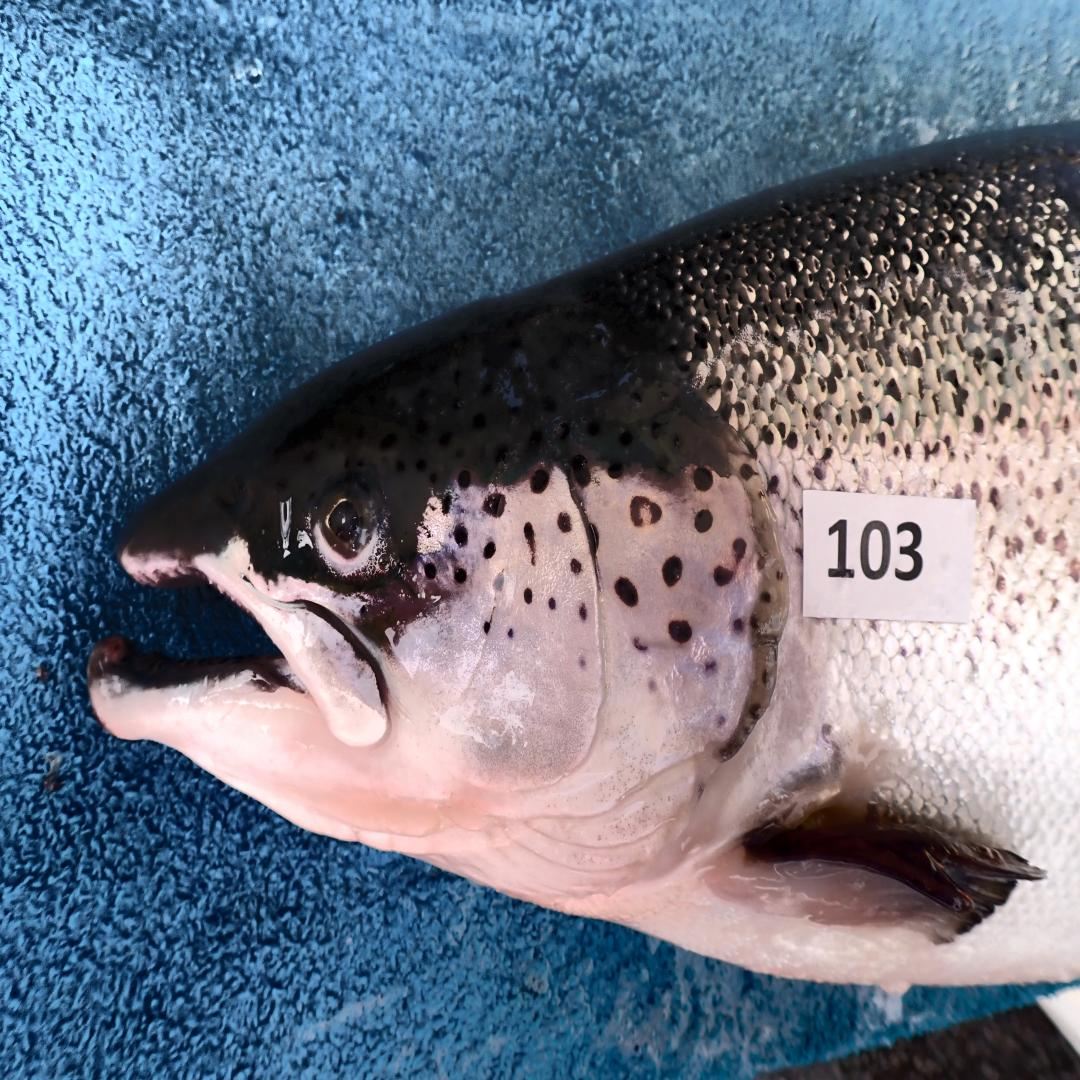spot: (631, 495, 662, 526), (614, 577, 637, 608), (571, 455, 591, 487), (483, 492, 506, 518), (662, 557, 683, 585), (669, 619, 692, 644), (692, 467, 713, 492), (524, 523, 536, 565), (713, 565, 734, 586), (694, 509, 713, 532), (713, 565, 734, 585), (732, 537, 747, 564), (532, 470, 548, 492), (454, 524, 468, 548), (557, 512, 572, 533), (483, 541, 496, 560), (732, 617, 745, 636), (458, 470, 470, 489), (424, 562, 437, 579), (441, 493, 451, 515), (608, 464, 622, 479), (453, 568, 466, 584), (591, 523, 599, 549), (570, 558, 582, 575), (756, 550, 766, 570), (493, 573, 504, 591), (634, 637, 648, 651), (749, 704, 760, 721), (523, 588, 533, 604), (715, 714, 727, 727), (578, 603, 587, 620), (759, 591, 771, 603), (647, 678, 657, 692), (750, 614, 760, 628), (548, 596, 556, 610), (705, 661, 716, 671), (484, 621, 491, 635), (507, 628, 514, 639), (579, 656, 586, 667)
